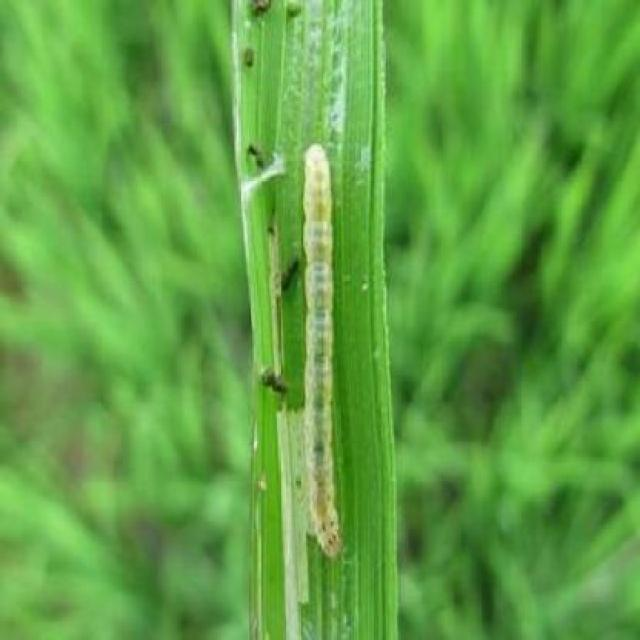leaf-folder: (292, 133, 370, 592)
